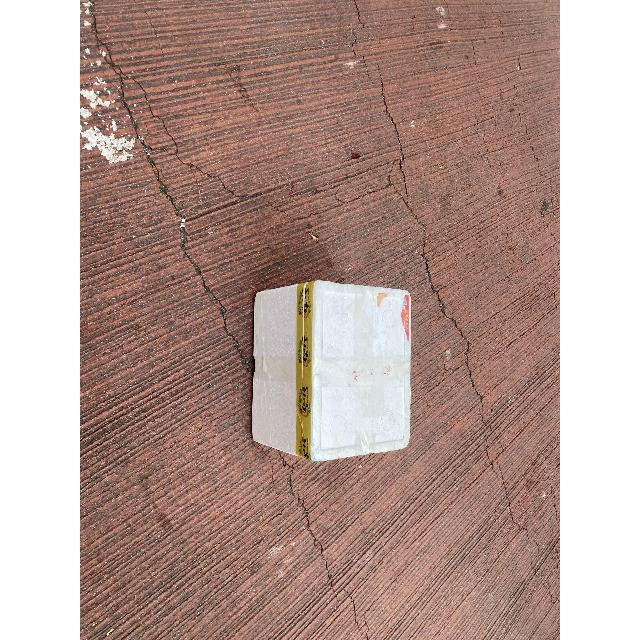Plastico descartable: (251, 281, 413, 464)
